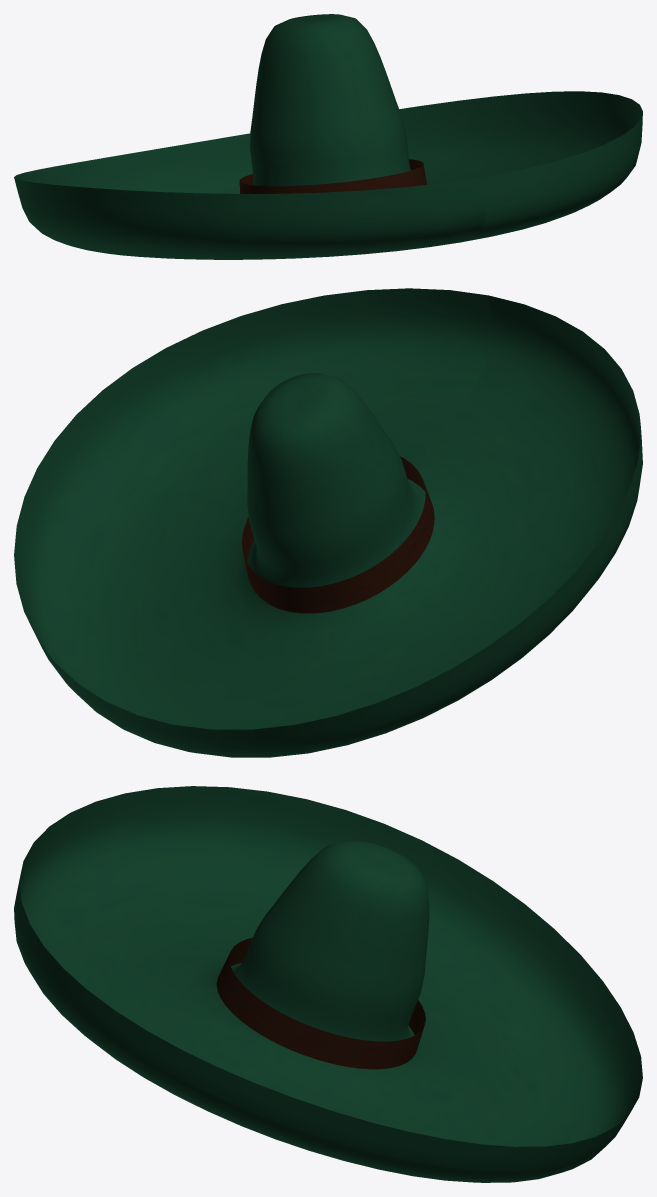
The model's file is hat.sombrero.gltf.
The picture shows the model from 3 angles, top to bottom: view 1: azimuth 30°, elevation 25°; view 2: azimuth 150°, elevation 25°; view 3: azimuth 270°, elevation 25°; orthographic projection.
Visible parts, largest first — view 1: Head; view 2: Head; view 3: Head.
Boxes of the visible parts, <box> form: Head: <box>14,14,642,259</box>; Head: <box>14,288,642,757</box>; Head: <box>14,786,642,1182</box>.
Bounding box in the file's own units: 0.6817 × 0.3307 × 0.6817.
Materials: 1 (1 with a texture image).
